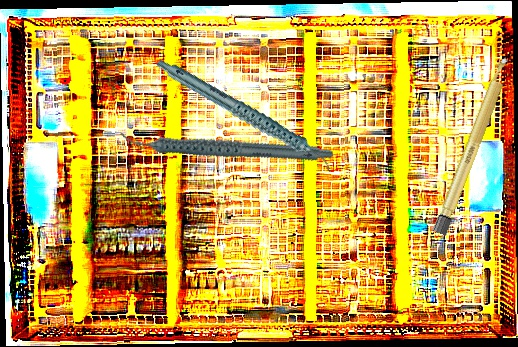Handpiece: (155, 27, 336, 204), (117, 88, 336, 202)
Scalpel Handle: (432, 55, 514, 236)
